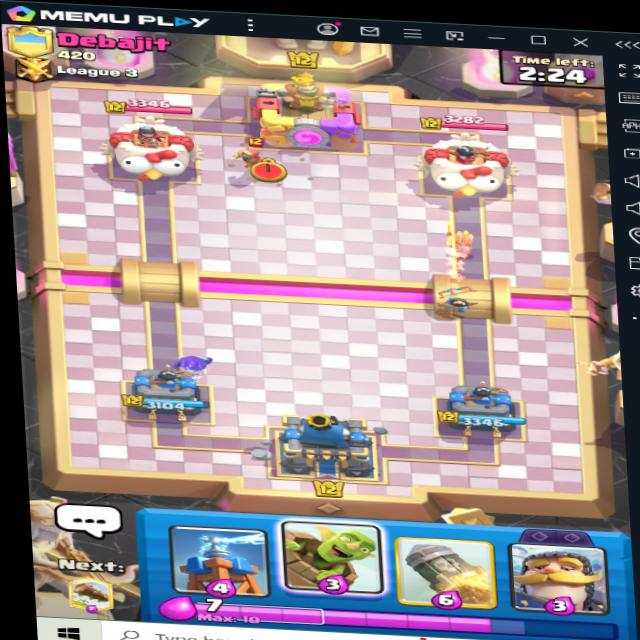wizard: (223, 135, 287, 181)
